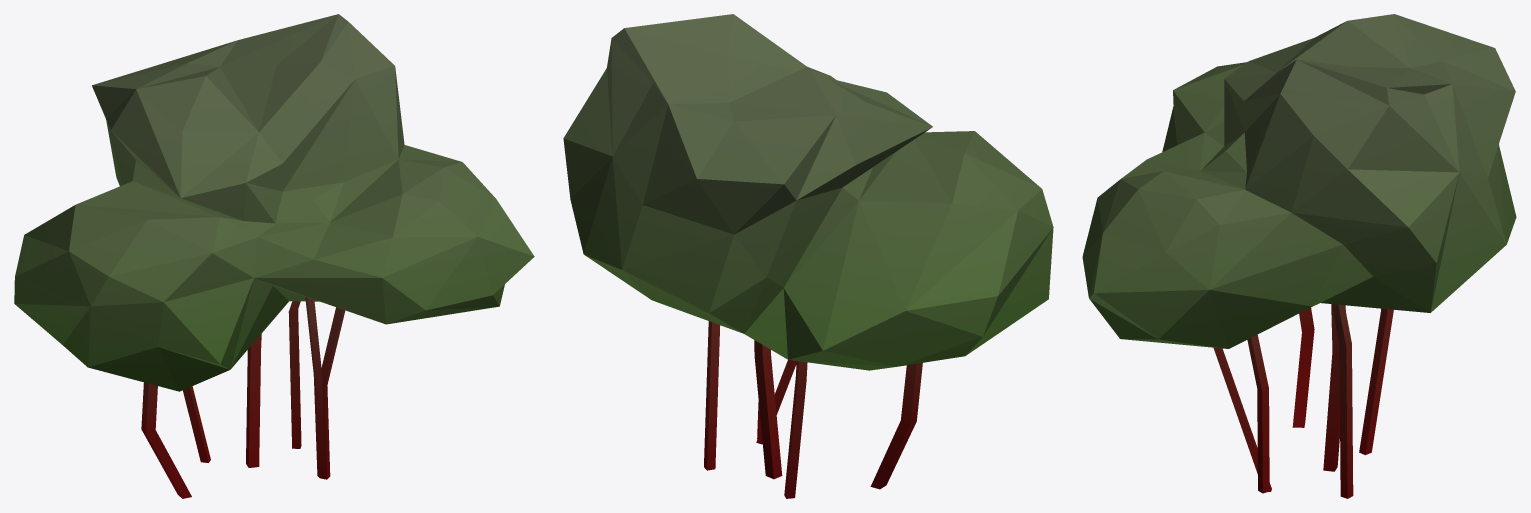
The model's file is synty-plant-bush-02.gltf.
3 views of the same model, side by side, from view 1: azimuth 30°, elevation 25°; view 2: azimuth 150°, elevation 25°; view 3: azimuth 270°, elevation 25° (orthographic). The views are drawn at different scales.
Parts seen in each view (by area): view 1: SM_Plant_Bush_02; view 2: SM_Plant_Bush_02; view 3: SM_Plant_Bush_02.
Boxes of the visible parts, x1,y1,x2,y2 form: SM_Plant_Bush_02: [14, 14, 534, 498]; SM_Plant_Bush_02: [563, 14, 1053, 498]; SM_Plant_Bush_02: [1082, 14, 1516, 498].
Size of the model in its own units: 2.09 by 2 by 1.79.
1 material, 1 textured.
